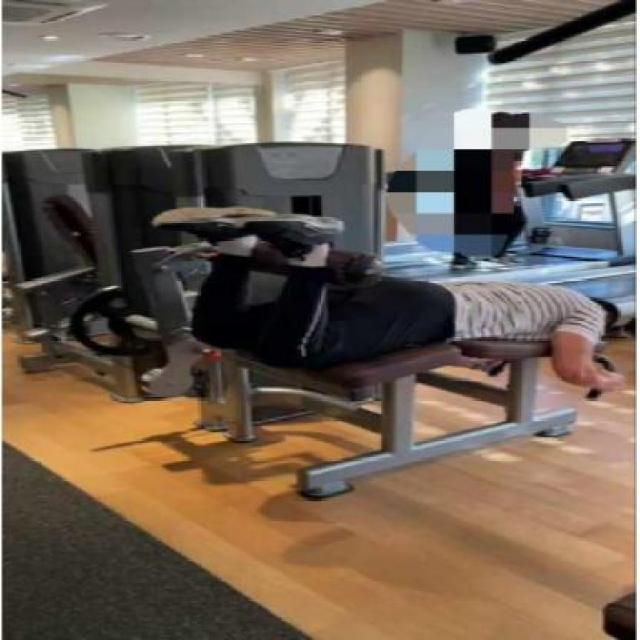reg curl machine: (114, 131, 640, 514)
